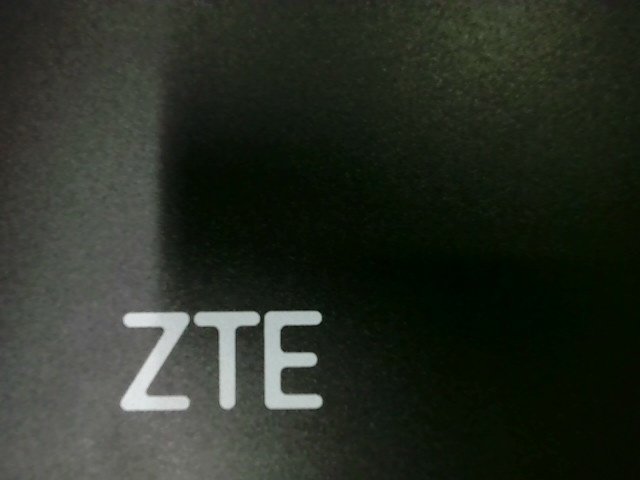AN_ZTE: (106, 302, 328, 413)
